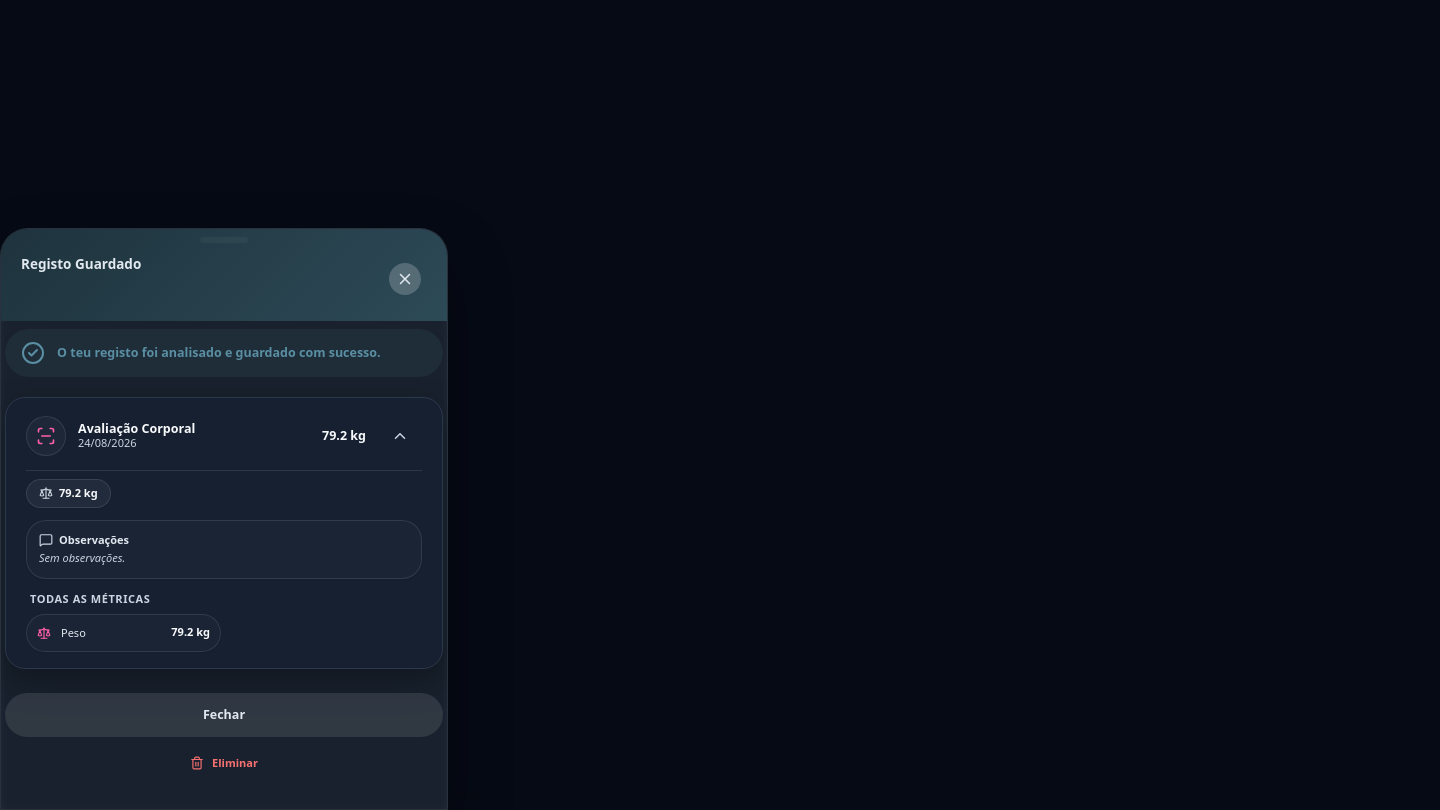
Test case: CreatedRecordModal › Fechar (o X) e Eliminar › clicar em "Eliminar" abre a confirmação; "Cancelar" não elimina nada
What coordinates should you click on to do the following:
click the button "Eliminar"
I would click on:
 (224, 763)
Its box is [5,741,443,785].
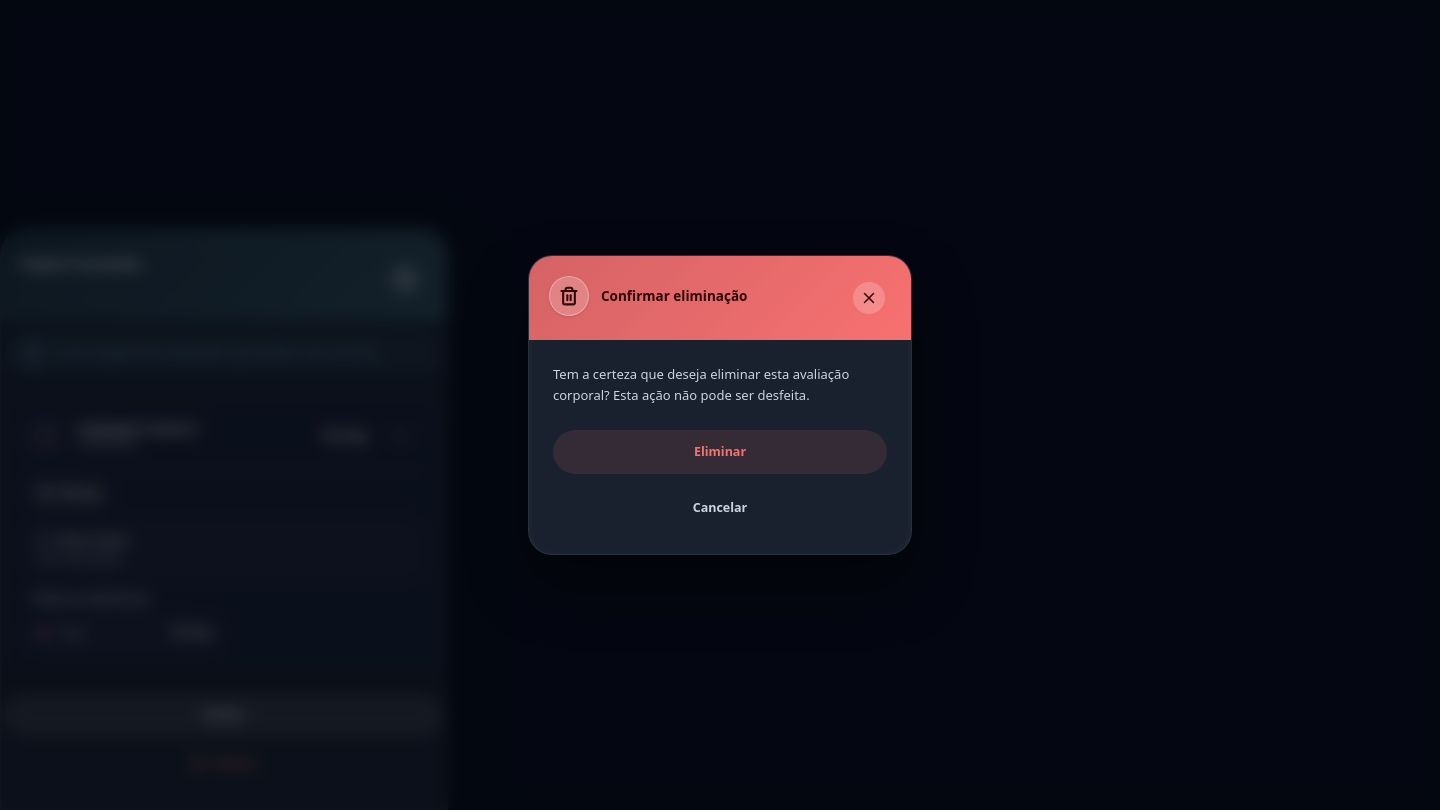
Check: the dialog is shown, box [528,255,912,555]
Check: the text "avaliação corporal" is shown, box [553,365,849,404]
What coordinates should you click on to do the following:
click the button "Cancelar"
I would click on:
 (720, 508)
Its box is [553,486,887,530].
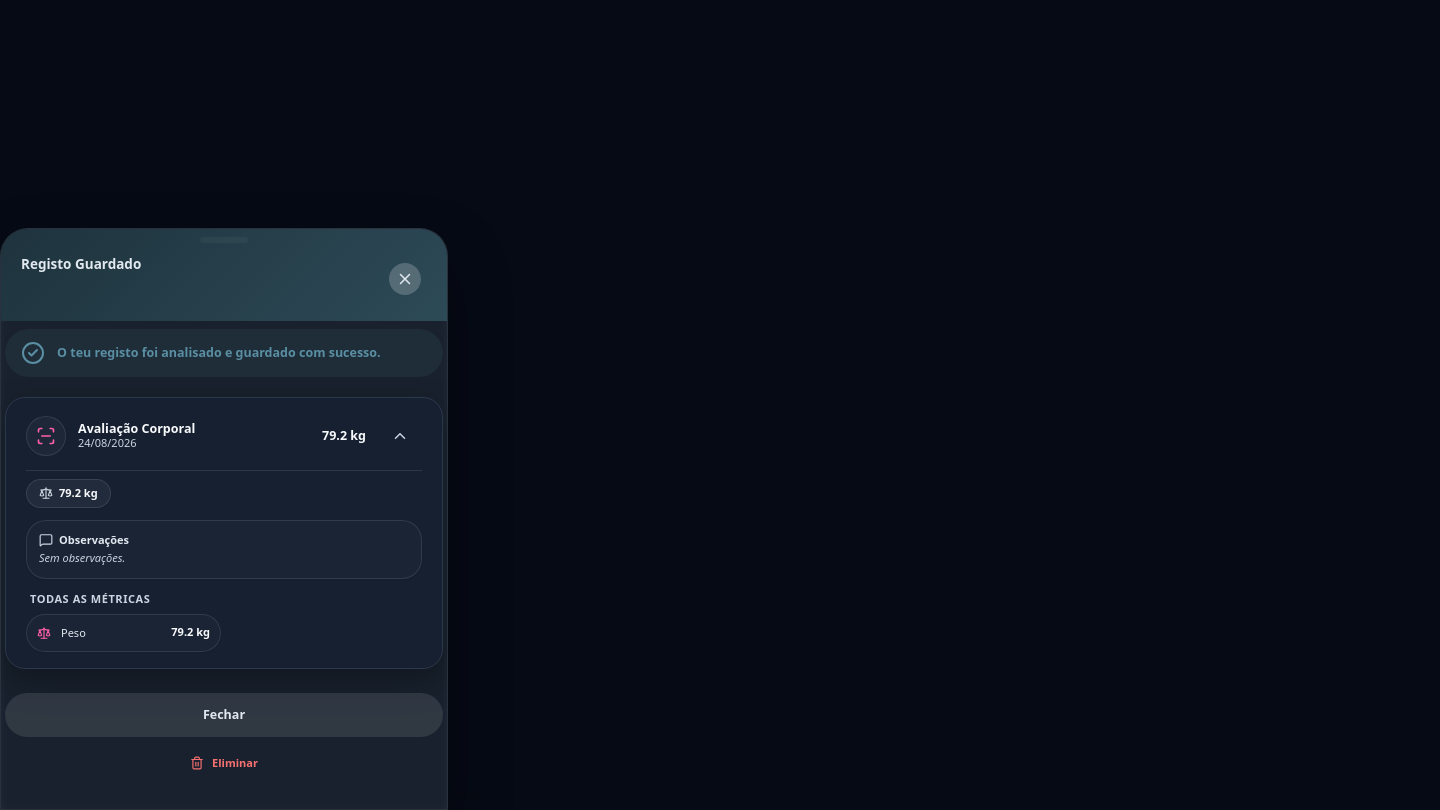
Check: the heading "Confirmar eliminação" is gone
